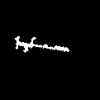double_crochet: (15, 36, 68, 51)
